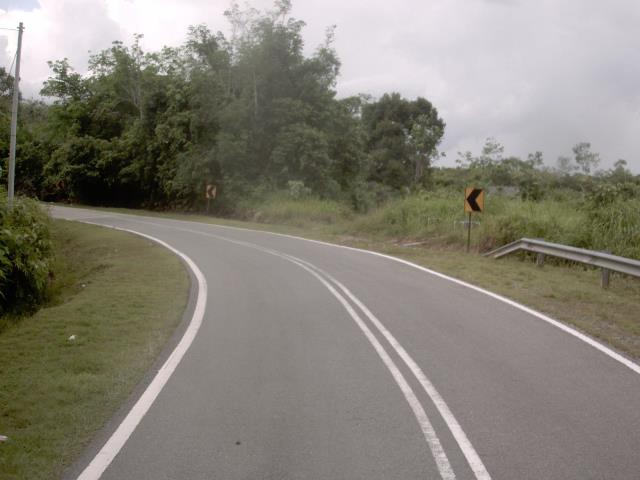traffic_sign: (457, 179, 490, 221)
